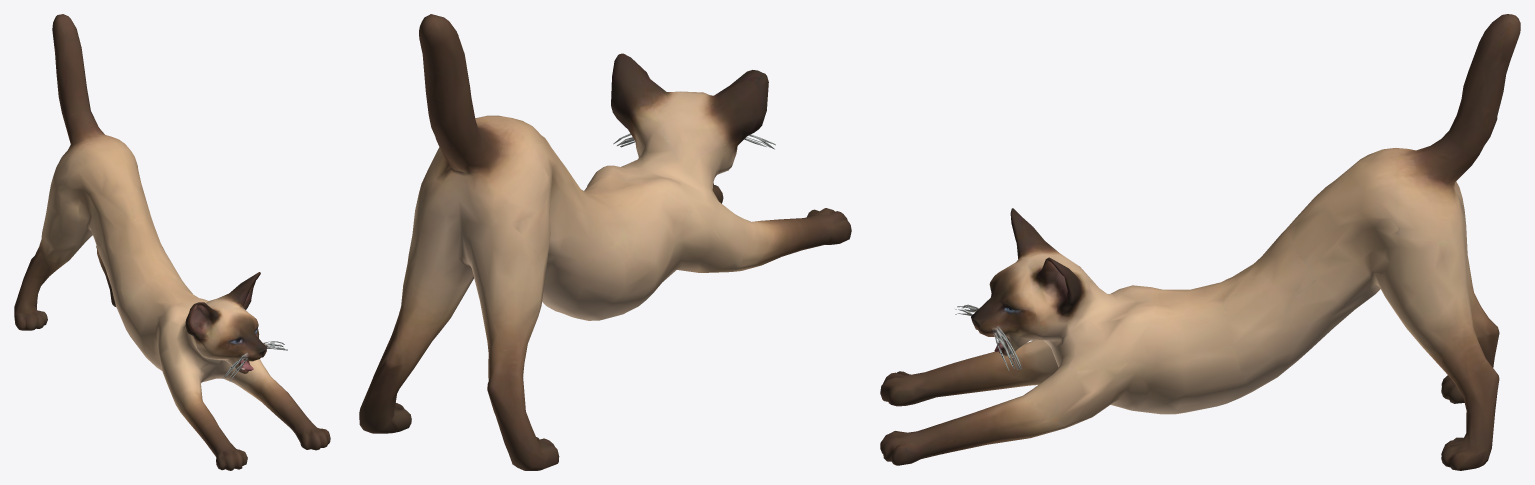
File: cat-stretch.glb
3 views of the same model, side by side, from view 1: azimuth 30°, elevation 25°; view 2: azimuth 150°, elevation 25°; view 3: azimuth 270°, elevation 25° (orthographic). The views are drawn at different scales.
Visible parts, largest first — view 1: tripo_node_aac0d290-5e28-458e-aaeb-49d260642bb6; view 2: tripo_node_aac0d290-5e28-458e-aaeb-49d260642bb6; view 3: tripo_node_aac0d290-5e28-458e-aaeb-49d260642bb6.
Boxes of the visible parts, x1,y1,x2,y2 form: tripo_node_aac0d290-5e28-458e-aaeb-49d260642bb6: (14, 14, 330, 470); tripo_node_aac0d290-5e28-458e-aaeb-49d260642bb6: (359, 14, 851, 470); tripo_node_aac0d290-5e28-458e-aaeb-49d260642bb6: (880, 14, 1520, 470).
Size of the model in its own units: 0.3232 by 0.7132 by 0.9985.
Materials: 1 (1 with a texture image).
